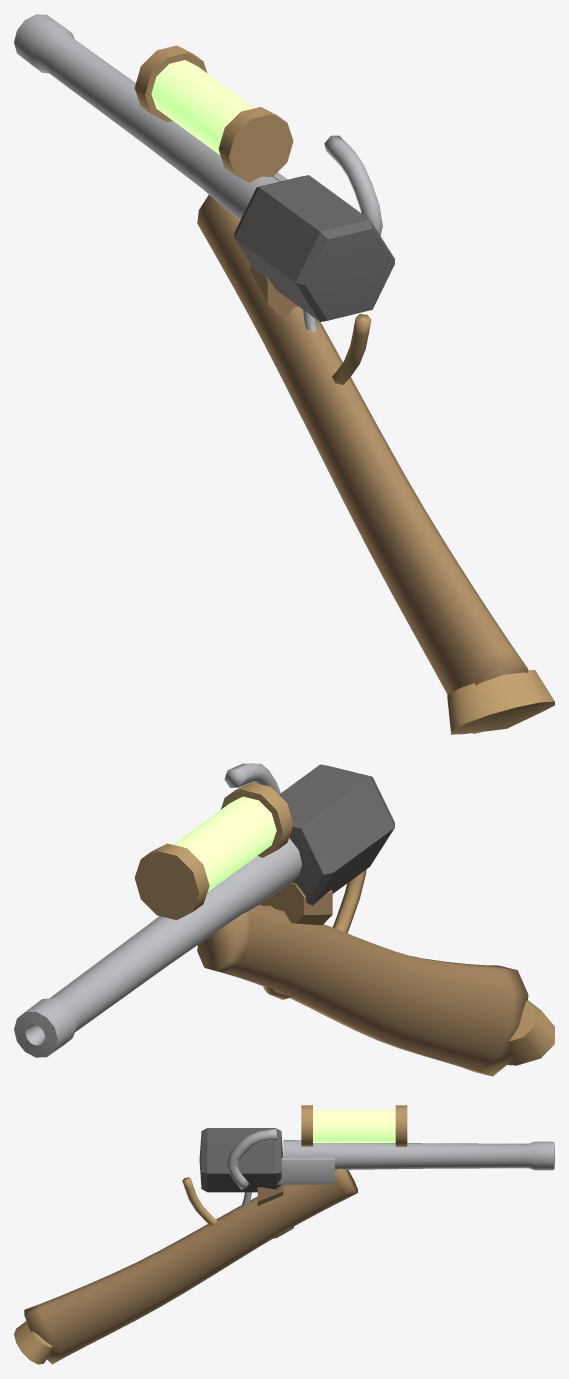
Rendered from radium-pistol.glb.
3 renders of one model, top to bottom at view 1: azimuth 30°, elevation 25°; view 2: azimuth 150°, elevation 25°; view 3: azimuth 270°, elevation 25°, orthographic. The views are drawn at different scales.
Visible parts, largest first — view 1: radium-pistol; view 2: radium-pistol; view 3: radium-pistol.
Boxes of the visible parts, x1=… form: radium-pistol: x1=14, y1=14, x2=554, y2=734; radium-pistol: x1=14, y1=763, x2=554, y2=1076; radium-pistol: x1=14, y1=1105, x2=554, y2=1364.
Bounding box in the file's own units: 0.1111 × 0.4342 × 0.8386.
